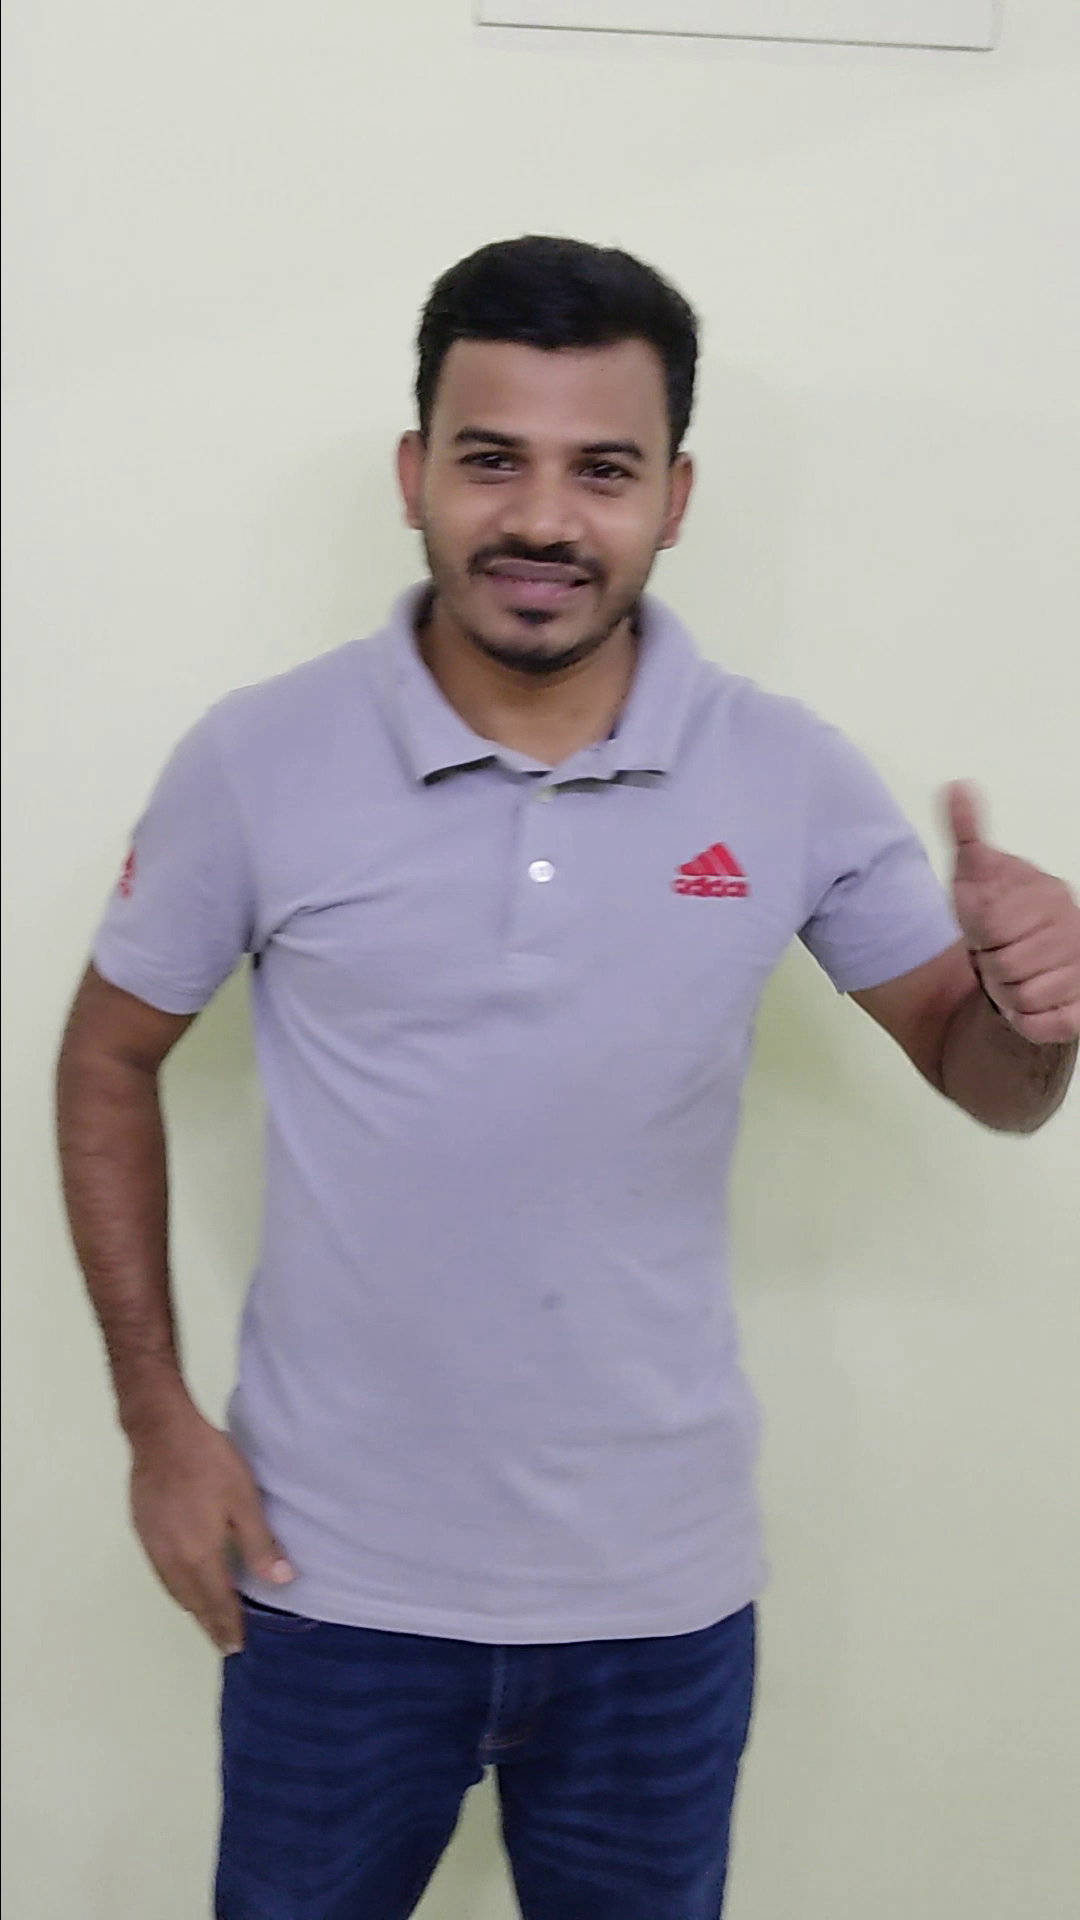Like: (927, 752, 1080, 1060)
None: (92, 1377, 313, 1684)
